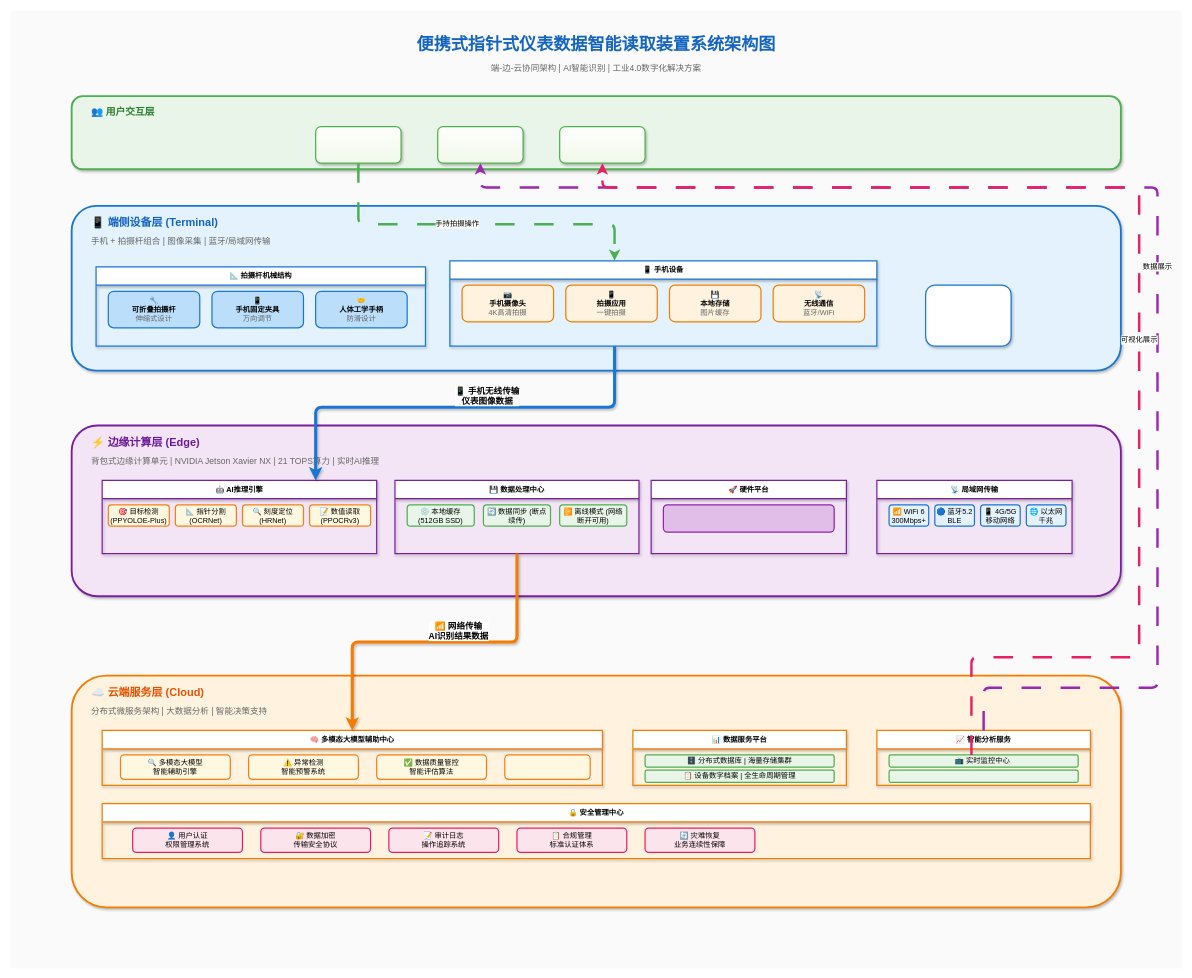
This 1192x978 diagram has some shape labels left out. Here are the shapes that lost their labels. From the top down, the centre of each, then its label:
At point 358,145: "👨‍🔧 巡检人员 现场操作".
At point 480,145: "💻 管理平台 数据分析".
At point 602,145: "📊 数据大屏 可视化展示".
At point 968,316: "🎒 背包式携带 便携移动".
At point 748,518: "🖥️ NVIDIA Jetson Xavier NX | 21 TOPS | 6核ARM | 16GB内存".
At point 547,767: "🔄 模型更新 持续优化机制".
At point 983,776: "📊 智能分析引擎".
